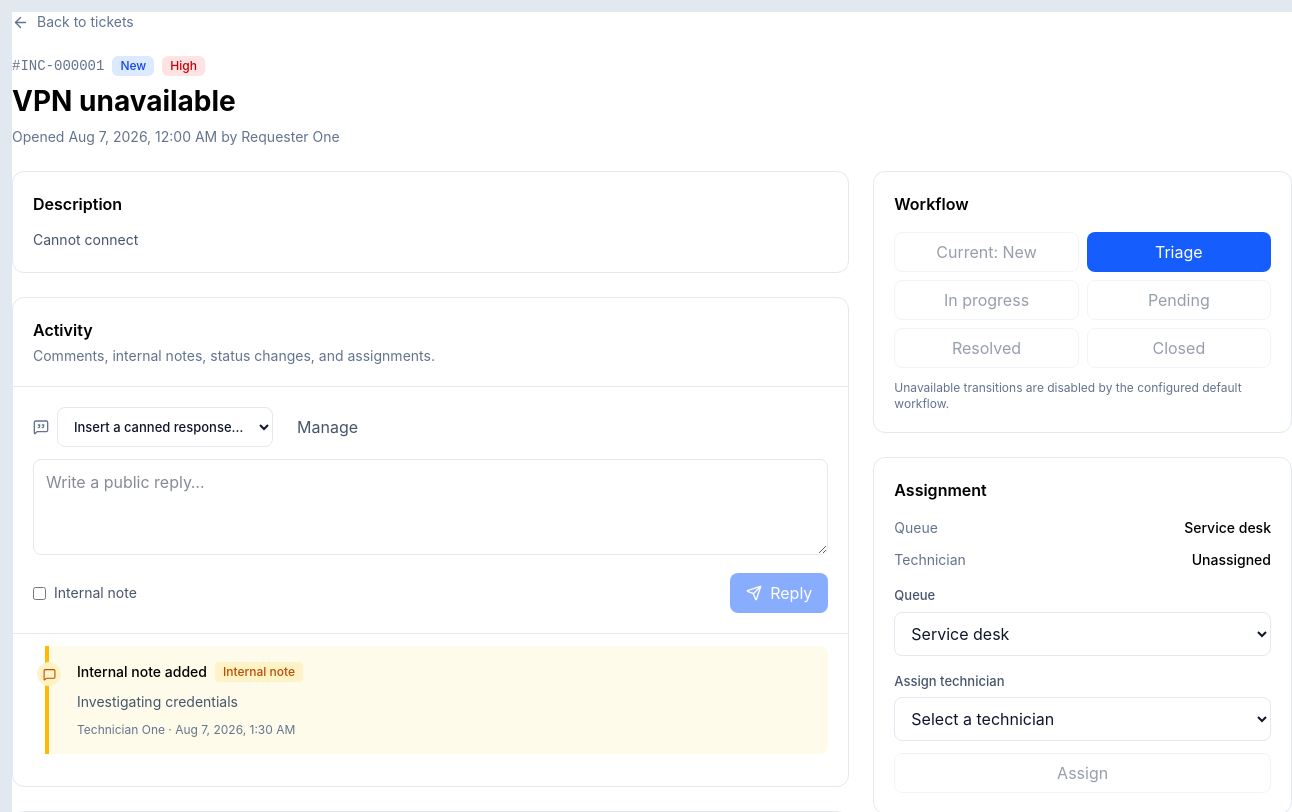
Test: TicketDetailPage › inserts a canned response with its placeholders already filled
Select "Acknowledge receipt" in the dropdown named "Insert canned response": [165, 427] box [57,407,273,447]
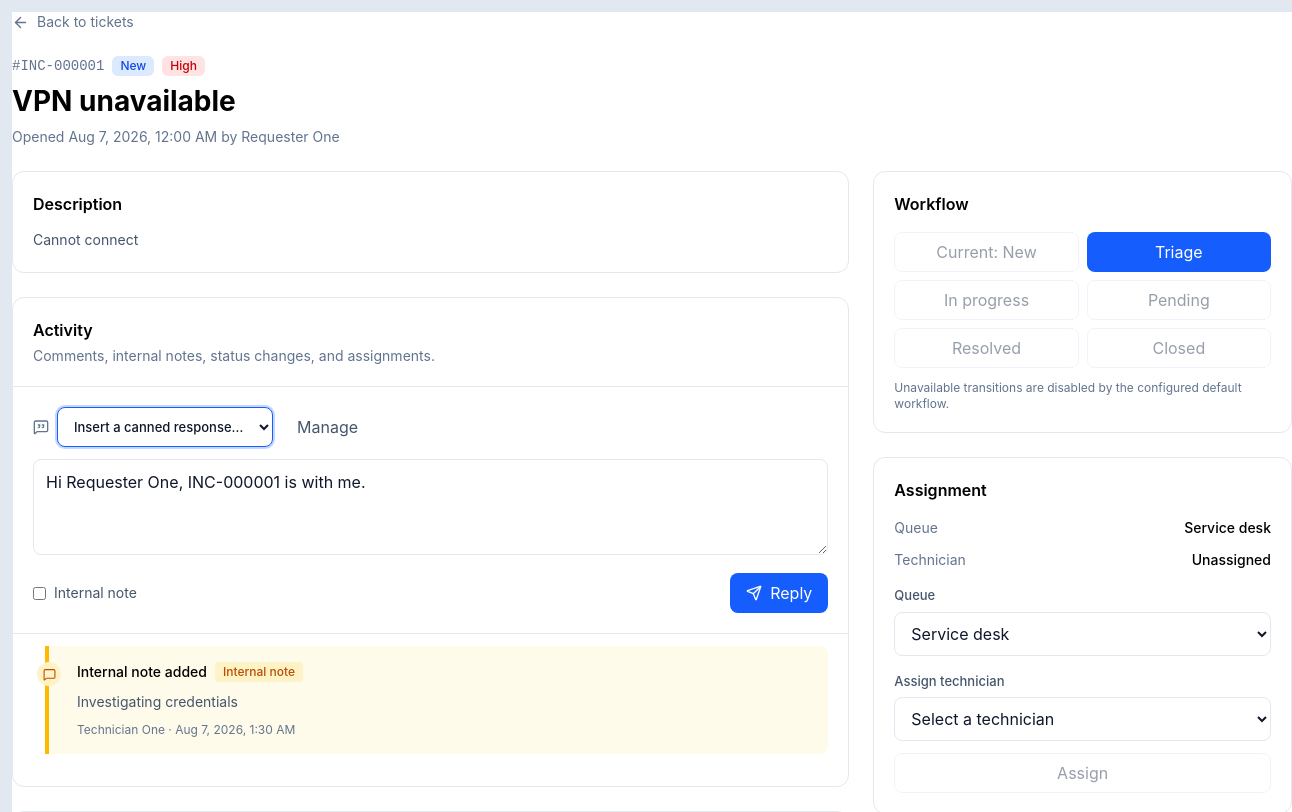
Check: the text box named "Comment" holds "Hi Requester One, INC-000001 is with me.", box [33,459,828,555]
